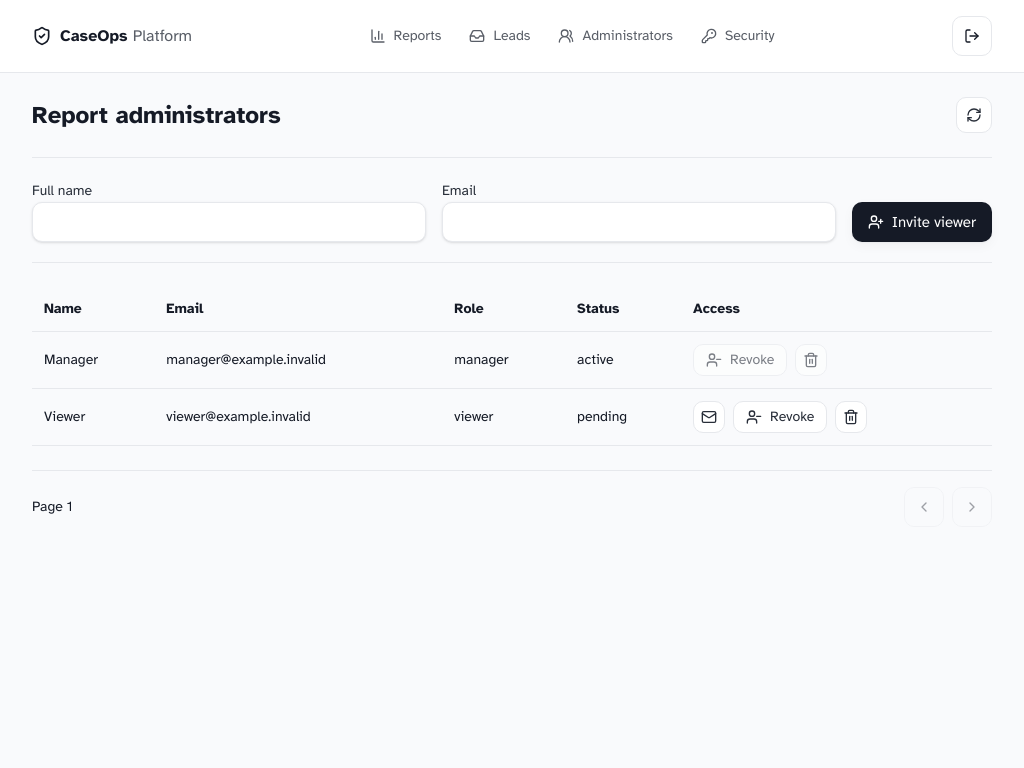
explicit report administrator management › resends once with the current version and preserves unknown transport truth
expect the text "viewer@example.invalid" is shown: met, box [154,388,442,446]
Click the button named "Resend invitation for Viewer": [709, 417] box [693,401,725,433]
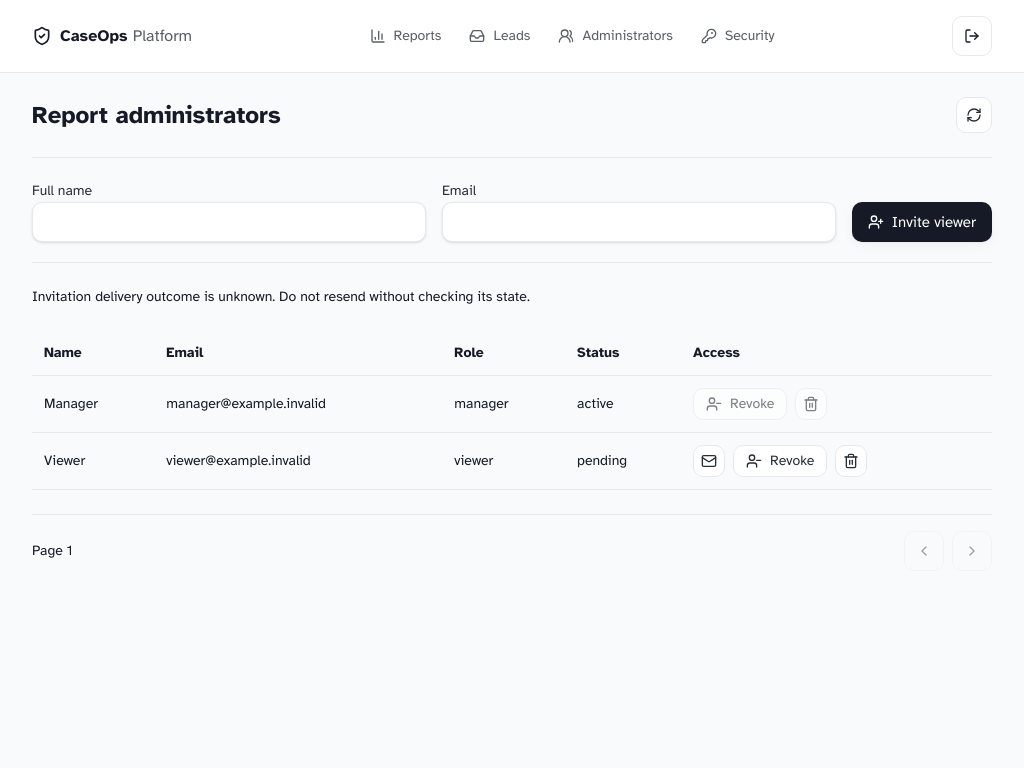
expect the message shows "outcome is unknown": met, box [32,288,530,305]
